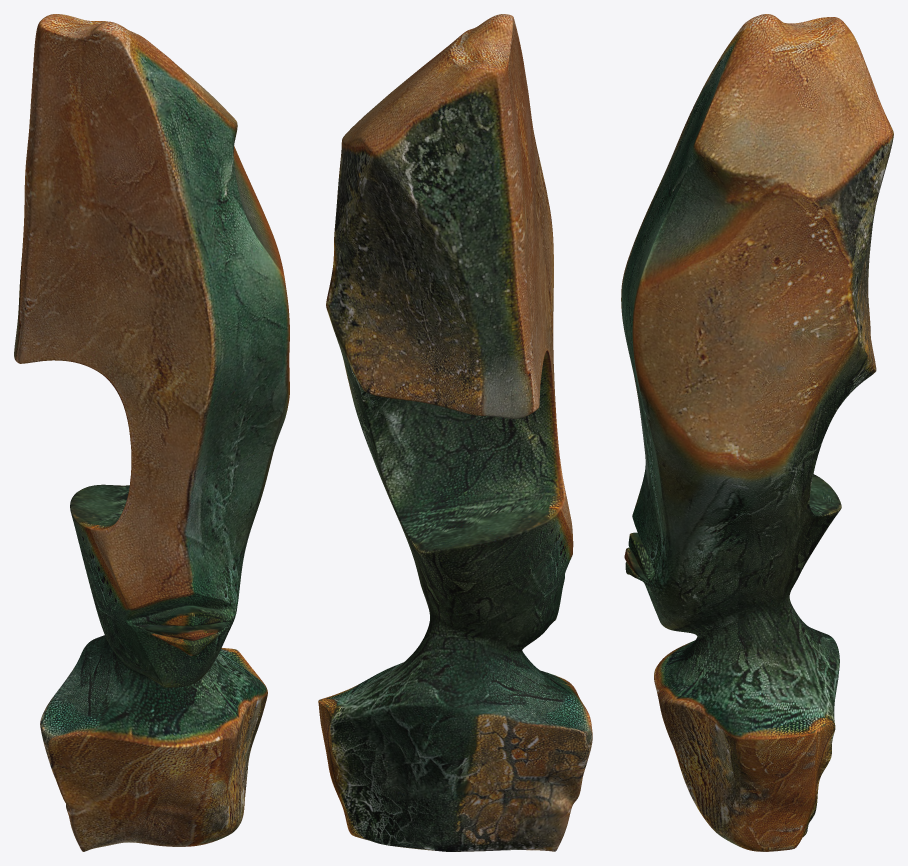
The model's file is chiefs-head-uploaded-v1.glb.
The picture shows the model from 3 angles, left to right: view 1: azimuth 30°, elevation 25°; view 2: azimuth 150°, elevation 25°; view 3: azimuth 270°, elevation 25°; orthographic projection. The views are drawn at different scales.
Bounding box in the file's own units: 0.553 × 1.9 × 0.6023.
1 material, 1 textured.
